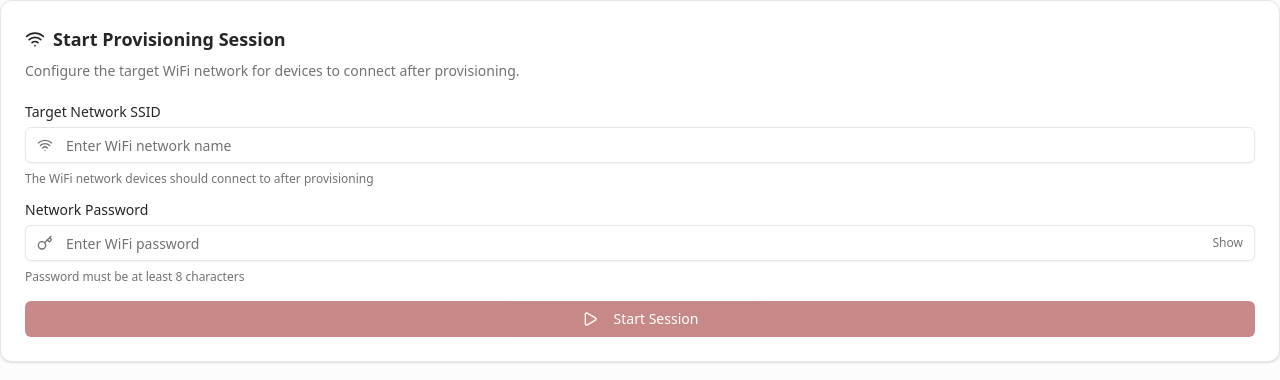
Test: BatchProvisioningSection Component › Start Session Form › should enable submit button when form is valid
The image size is (1280, 380).
Type "MyNetwork" into the field with test id "ssid-input" at x=640, y=145, box [25,127,1255,163]
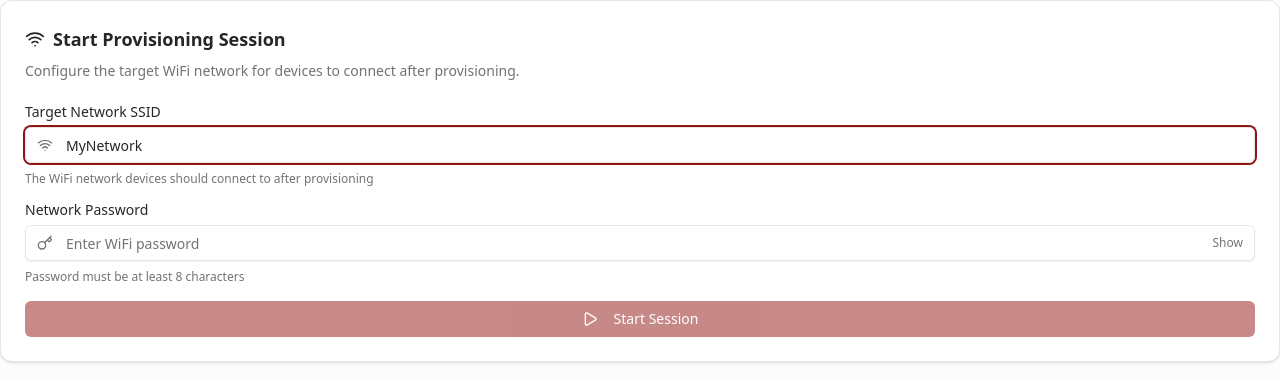
Type "validpassword123" into the password field with test id "password-input" at x=640, y=243, box [25,225,1255,261]
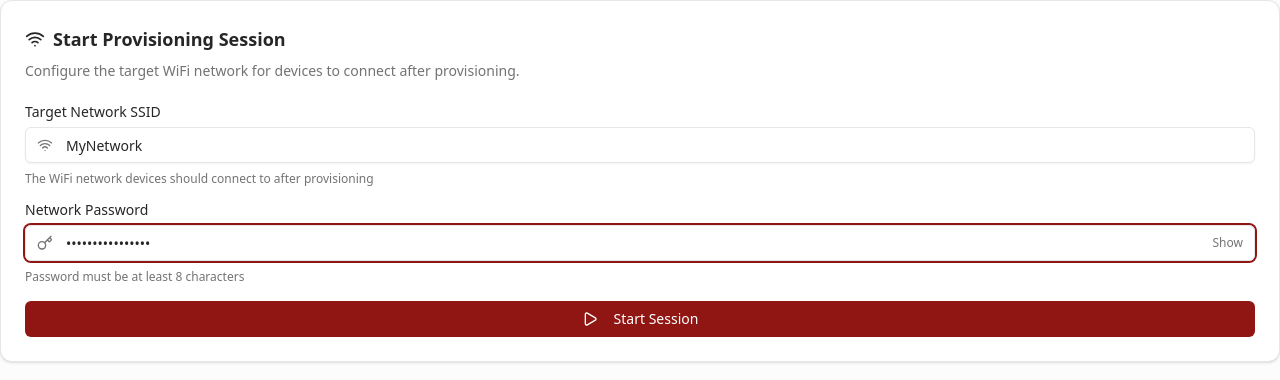
Expected: the button with test id "start-session-button" is enabled, [25,301,1255,337]
